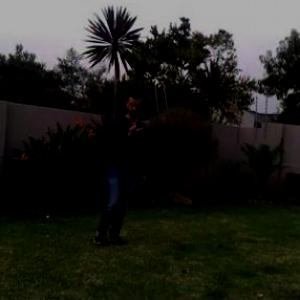land_hand: (120, 111, 144, 139)
